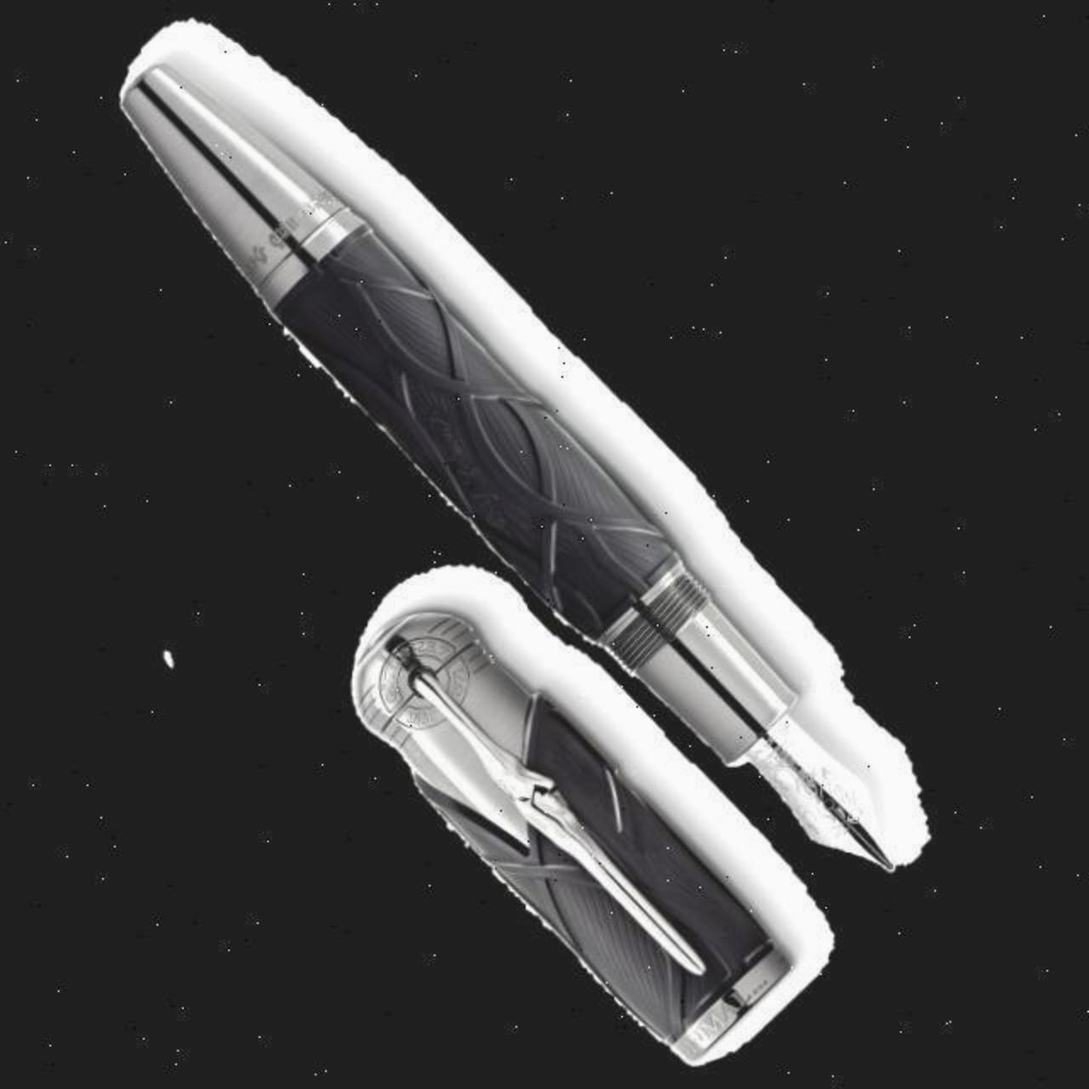pen: (73, 17, 980, 873), (335, 562, 837, 1065)
